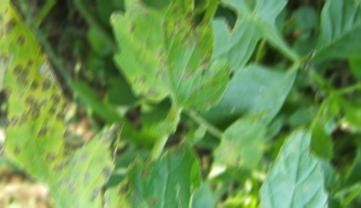Tomato Septoria leaf spot: (0, 0, 120, 208), (108, 0, 238, 116)
